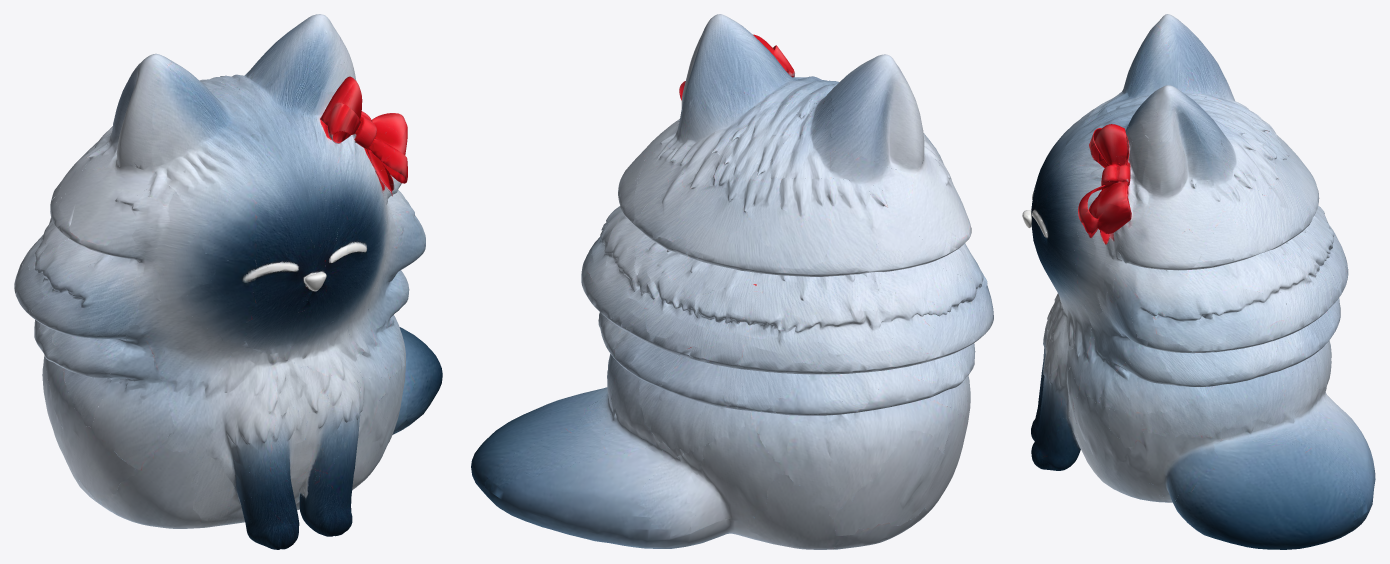
File: cherry-bow-2ijcUk9y.glb
3 views of the same model, side by side, from view 1: azimuth 30°, elevation 25°; view 2: azimuth 150°, elevation 25°; view 3: azimuth 270°, elevation 25° (orthographic). The views are drawn at different scales.
Parts seen in each view (by area): view 1: worn-cherry-bow; view 2: worn-cherry-bow; view 3: worn-cherry-bow.
Boxes of the visible parts, <box> form: worn-cherry-bow: <box>14,14,442,549</box>; worn-cherry-bow: <box>471,14,993,549</box>; worn-cherry-bow: <box>1022,14,1375,549</box>.
Size of the model in its own units: 1.9 by 1.86 by 1.48.
1 material, 1 textured.
